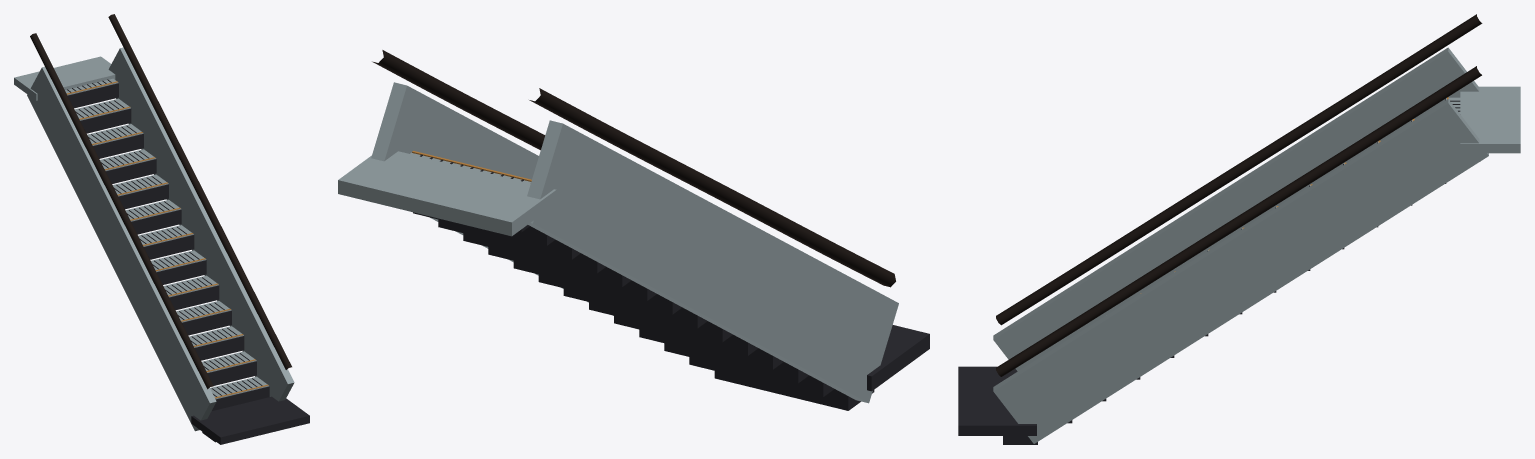
File: mia-escalator.glb
3 renders of one model, left to right at view 1: azimuth 30°, elevation 25°; view 2: azimuth 150°, elevation 25°; view 3: azimuth 270°, elevation 25°, orthographic. The views are drawn at different scales.
Parts seen in each view (by area): view 1: Body_steel, Body_iron, Body_black, Body_brass; view 2: Body_steel, Body_iron, Body_black; view 3: Body_steel, Body_black, Body_iron.
Boxes of the visible parts, x1,y1,x2,y2 form: Body_steel: (14, 47, 294, 431); Body_iron: (67, 79, 309, 444); Body_black: (30, 14, 291, 389); Body_brass: (67, 81, 268, 398); Body_steel: (338, 82, 898, 403); Body_iron: (413, 154, 929, 410); Body_black: (372, 50, 895, 287); Body_steel: (993, 47, 1520, 443); Body_black: (996, 14, 1482, 376); Body_iron: (958, 98, 1460, 444).
Size of the model in its own units: 1.4 by 4.21 by 5.62.
